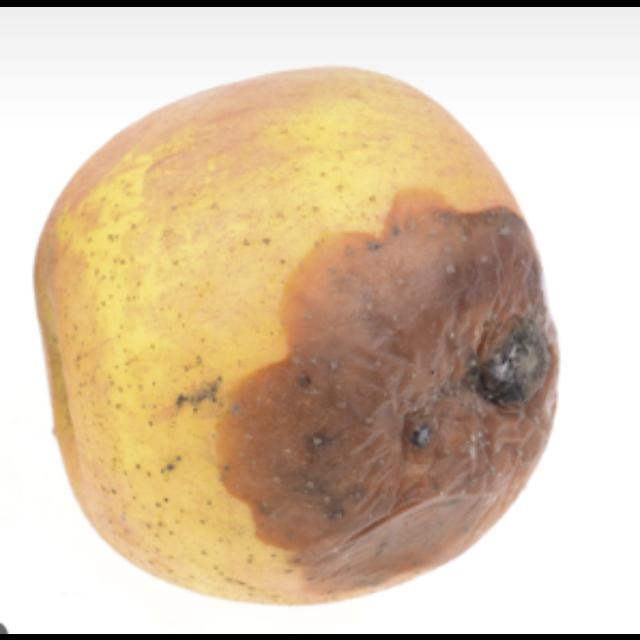Apel Tidak Segar: (34, 63, 564, 609)
